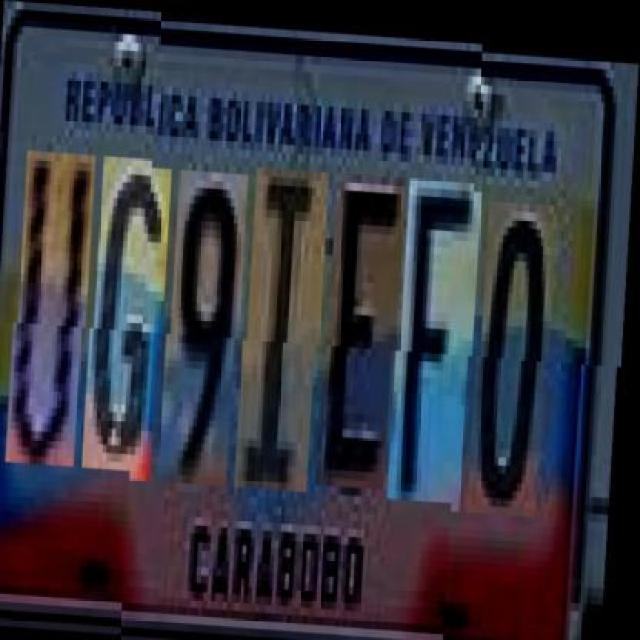9: (168, 166, 250, 483)
e: (324, 167, 408, 484)
f: (397, 172, 485, 496)
g: (91, 163, 174, 479)
i: (244, 162, 331, 487)
o: (478, 184, 560, 502)
u: (14, 158, 98, 474)
